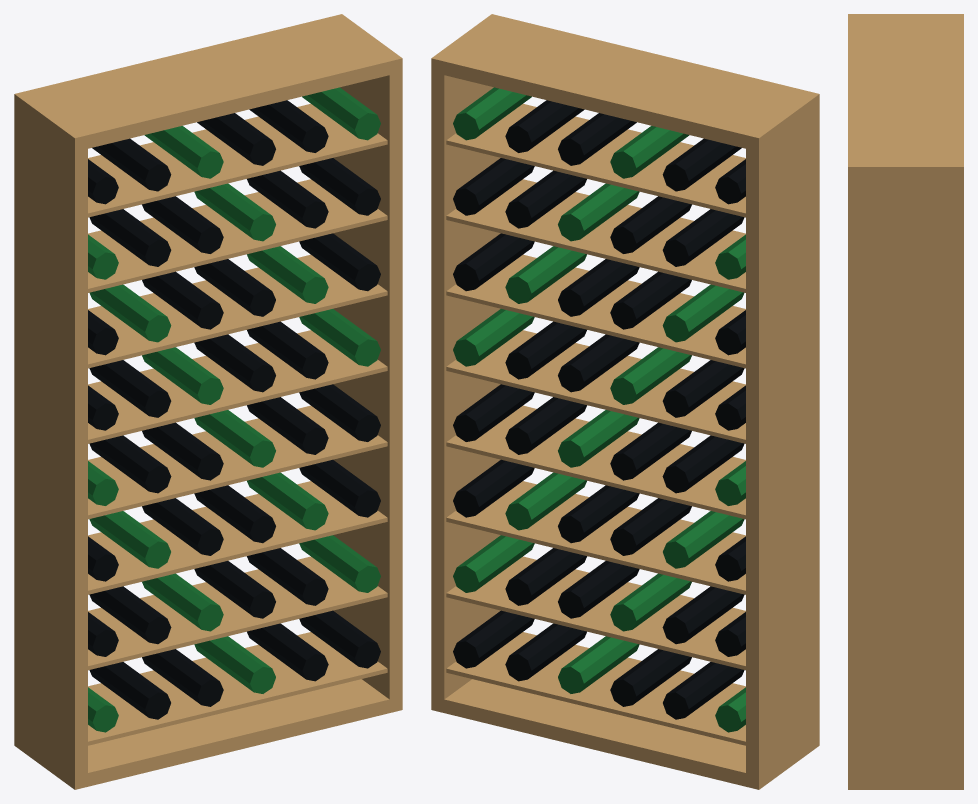
The model's file is hospitality.restaurant.wine_rack.glb.
3 views of the same model, side by side, from view 1: azimuth 30°, elevation 25°; view 2: azimuth 150°, elevation 25°; view 3: azimuth 270°, elevation 25° (orthographic). The views are drawn at different scales.
Visible parts, largest first — view 1: main__glulam, main__glass_dark, main__plastic_green; view 2: main__glulam, main__glass_dark, main__plastic_green; view 3: main__glulam.
Boxes of the visible parts, <box> form: main__glulam: <box>14,14,402,789</box>; main__glass_dark: <box>88,100,380,719</box>; main__plastic_green: <box>88,87,380,732</box>; main__glulam: <box>431,14,819,789</box>; main__glass_dark: <box>453,100,745,719</box>; main__plastic_green: <box>453,87,745,732</box>; main__glulam: <box>848,14,963,789</box>.
Bounding box in the file's own units: 1 × 1.9 × 0.32.
